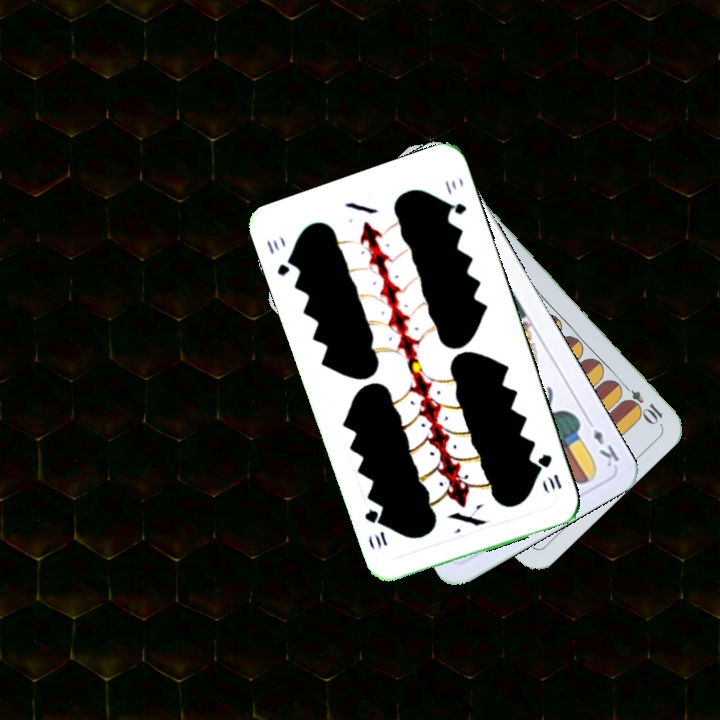E10: (616, 378, 666, 426)
EK: (582, 414, 622, 470)
G10: (262, 235, 298, 279), (533, 450, 565, 492)
